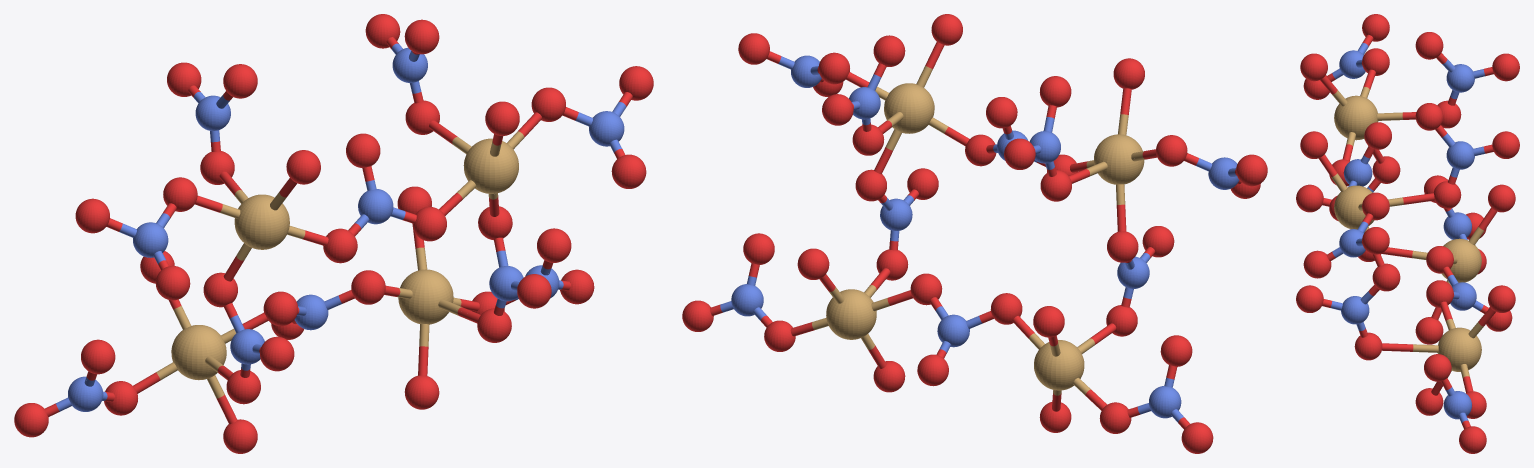
File: copper(ii)nitrate.dae
3 renders of one model, left to right at view 1: azimuth 30°, elevation 25°; view 2: azimuth 150°, elevation 25°; view 3: azimuth 270°, elevation 25°, orthographic. The views are drawn at different scales.
Parts seen in each view (by area): view 1: Ball_Copper_003, Ball_Copper_004, Ball_Copper_002, Ball_Copper_001, Ball_Nitrogen_006, Ball_Nitrogen_003, Ball_Oxygen_019, Ball_Oxygen_025, Ball_Oxygen_002, Ball_Nitrogen_002, Ball_Oxygen_024, Ball_Oxygen_034 (+34 smaller); view 2: Ball_Copper_001, Ball_Copper_002, Ball_Copper_004, Ball_Copper_003, Ball_Nitrogen_005, Ball_Nitrogen_004, Ball_Oxygen_027, Ball_Oxygen_029, Ball_Oxygen_023, Ball_Oxygen_026, Ball_Oxygen_028, Ball_Oxygen_003 (+34 smaller); view 3: Ball_Copper_003, Ball_Copper_001, Ball_Copper_004, Ball_Copper_002, Ball_Nitrogen_008, Ball_Nitrogen_007, Ball_Nitrogen_009, Ball_Oxygen_034, Ball_Oxygen_025, Ball_Oxygen_026, Ball_Oxygen_035, Ball_Oxygen_036 (+34 smaller).
Boxes of the visible parts, left/top/right/bottom form: Ball_Copper_003: left=234, top=194, right=289, bottom=249; Ball_Copper_004: left=171, top=325, right=226, bottom=380; Ball_Copper_002: left=463, top=138, right=518, bottom=193; Ball_Copper_001: left=398, top=269, right=453, bottom=324; Ball_Nitrogen_006: left=358, top=189, right=393, bottom=224; Ball_Nitrogen_003: left=589, top=111, right=624, bottom=146; Ball_Oxygen_019: left=351, top=270, right=385, bottom=304; Ball_Oxygen_025: left=286, top=150, right=320, bottom=184; Ball_Oxygen_002: left=537, top=228, right=571, bottom=262; Ball_Nitrogen_002: left=133, top=222, right=168, bottom=257; Ball_Oxygen_024: left=485, top=101, right=519, bottom=135; Ball_Oxygen_034: left=223, top=64, right=257, bottom=98; Ball_Copper_001: left=826, top=289, right=876, bottom=339; Ball_Copper_002: left=884, top=83, right=934, bottom=133; Ball_Copper_004: left=1034, top=340, right=1084, bottom=390; Ball_Copper_003: left=1094, top=134, right=1144, bottom=184; Ball_Nitrogen_005: left=731, top=284, right=763, bottom=316; Ball_Nitrogen_004: left=1149, top=386, right=1181, bottom=418; Ball_Oxygen_027: left=1236, top=154, right=1267, bottom=186; Ball_Oxygen_029: left=1181, top=422, right=1213, bottom=453; Ball_Oxygen_023: left=797, top=248, right=829, bottom=279; Ball_Oxygen_026: left=1033, top=306, right=1064, bottom=337; Ball_Oxygen_028: left=738, top=33, right=769, bottom=64; Ball_Oxygen_003: left=986, top=97, right=1017, bottom=128; Ball_Copper_003: left=1334, top=95, right=1378, bottom=140; Ball_Copper_001: left=1437, top=327, right=1481, bottom=371; Ball_Copper_004: left=1441, top=238, right=1481, bottom=282; Ball_Copper_002: left=1334, top=185, right=1374, bottom=229; Ball_Nitrogen_008: left=1446, top=141, right=1474, bottom=169; Ball_Nitrogen_007: left=1341, top=296, right=1369, bottom=324; Ball_Nitrogen_009: left=1446, top=64, right=1474, bottom=92; Ball_Oxygen_034: left=1415, top=32, right=1443, bottom=59; Ball_Oxygen_025: left=1300, top=53, right=1327, bottom=81; Ball_Oxygen_026: left=1488, top=184, right=1515, bottom=212; Ball_Oxygen_035: left=1492, top=53, right=1519, bottom=81; Ball_Oxygen_036: left=1296, top=184, right=1323, bottom=212.
Bounding box in the file's own units: 14.03 × 5.89 × 9.01.
